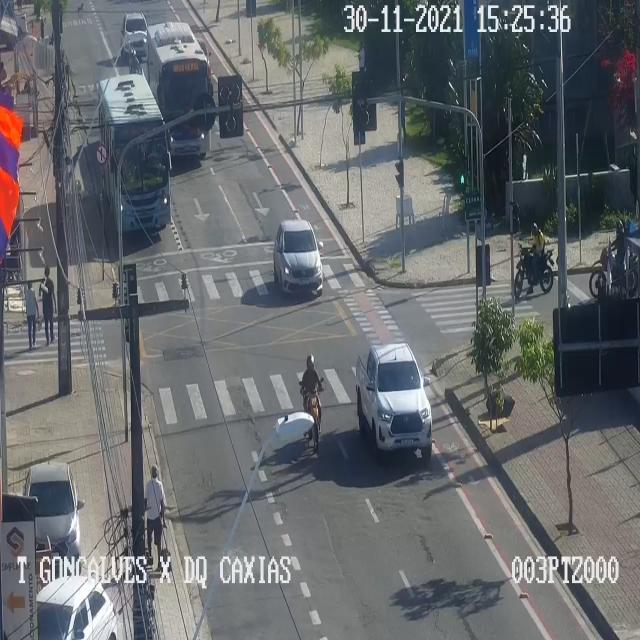Bus: (98, 72, 171, 230), (146, 22, 218, 156)
Car: (355, 340, 432, 460), (23, 461, 83, 567), (36, 576, 116, 639), (273, 220, 325, 298), (120, 12, 148, 57)
Motorcycle: (590, 220, 640, 298), (514, 221, 554, 298), (298, 355, 324, 455)
